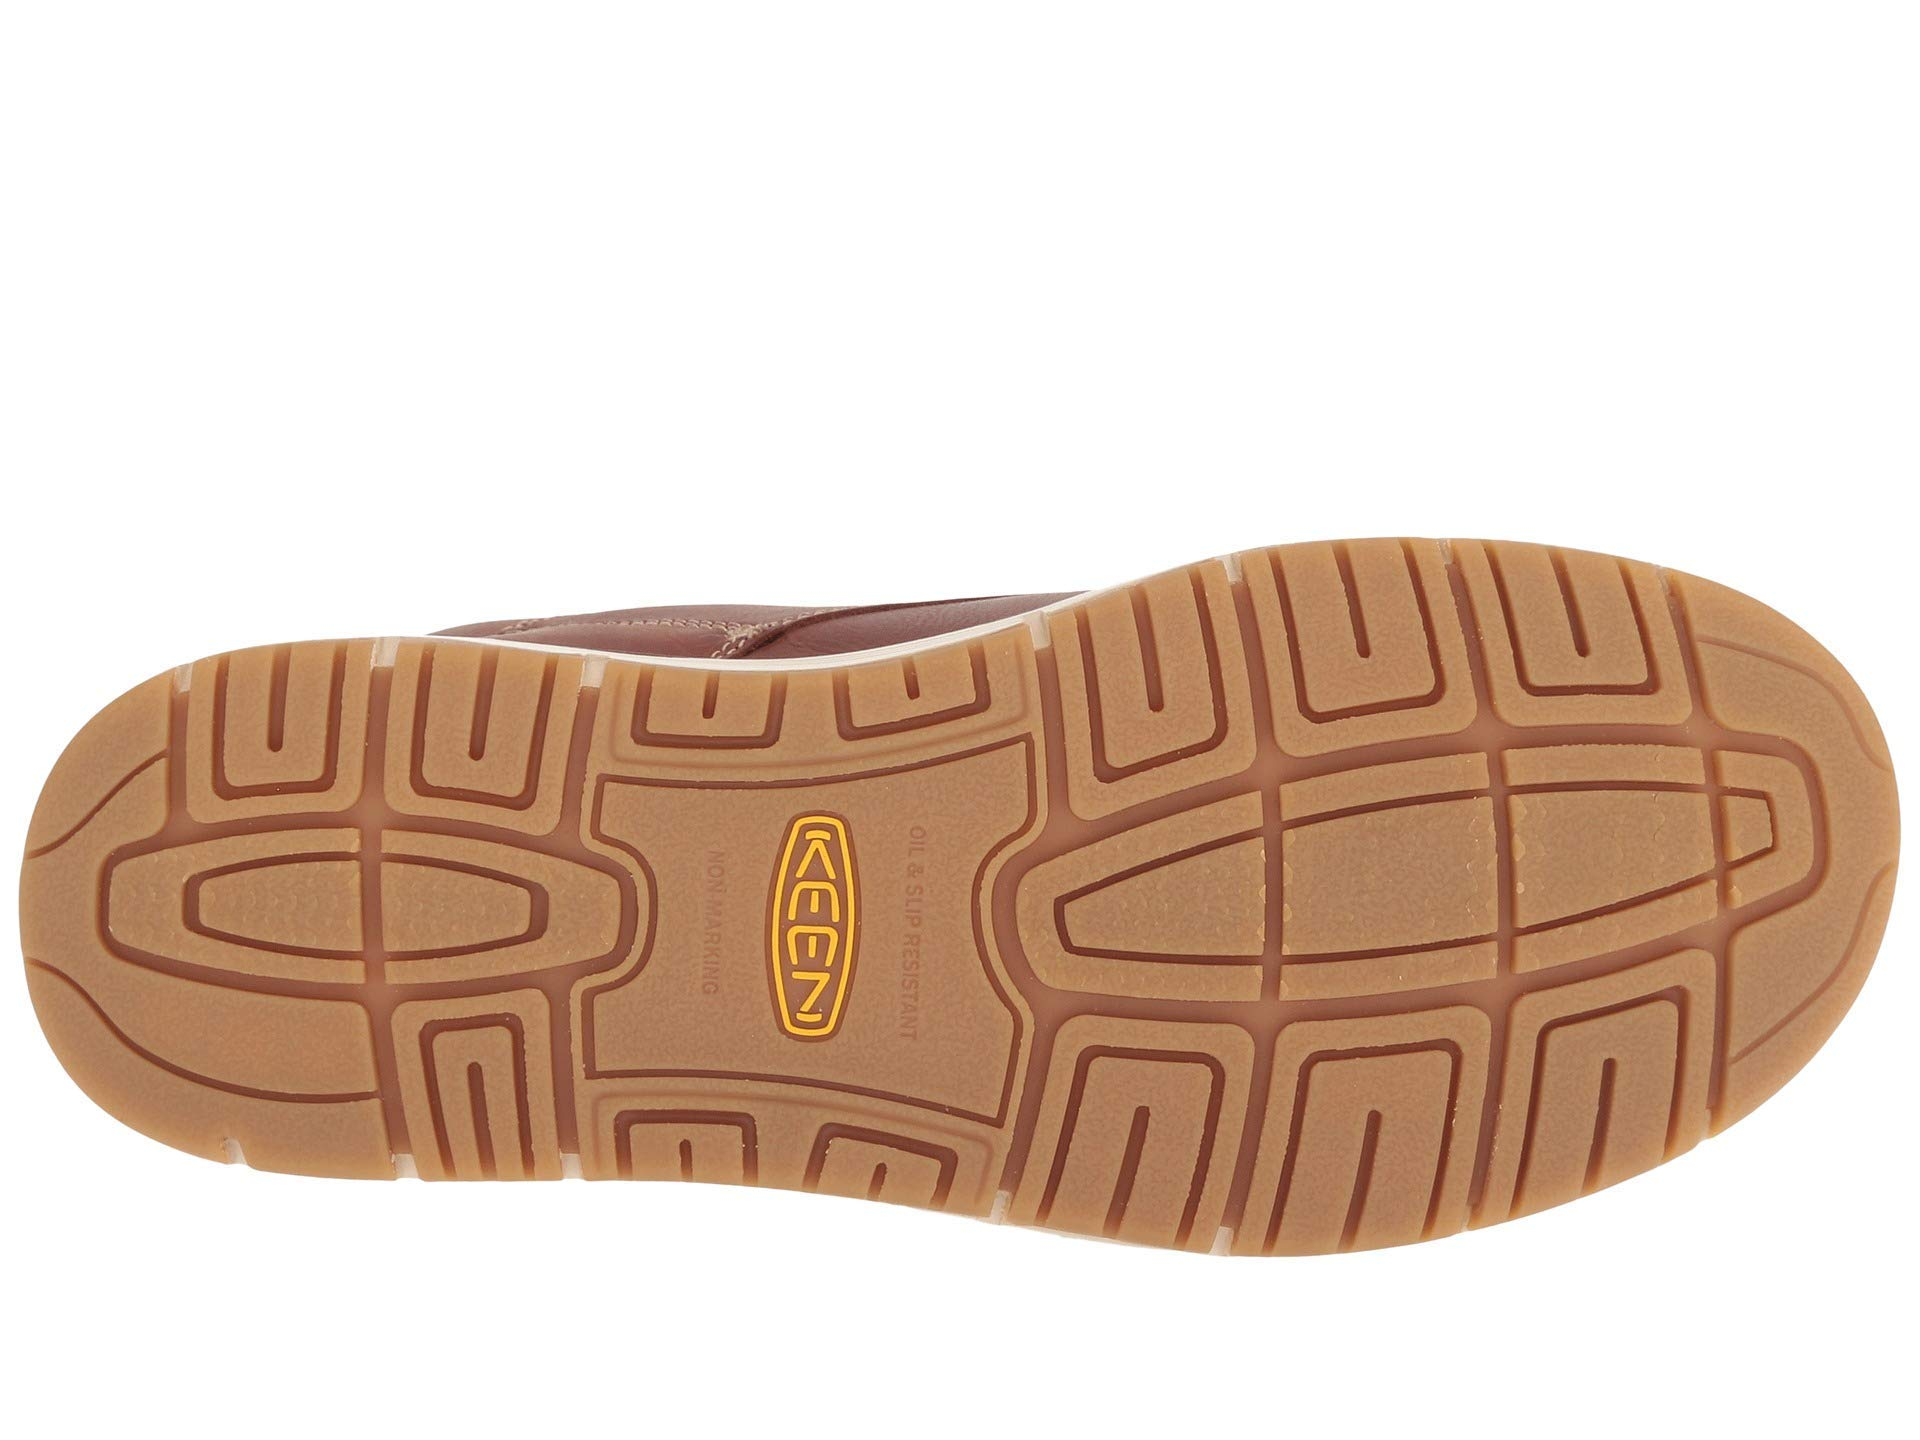quad: (1225, 731, 1550, 1026), (1020, 977, 1253, 1284), (763, 805, 895, 1063), (1683, 722, 1822, 933), (358, 830, 553, 976)
text: (763, 805, 895, 1063)
